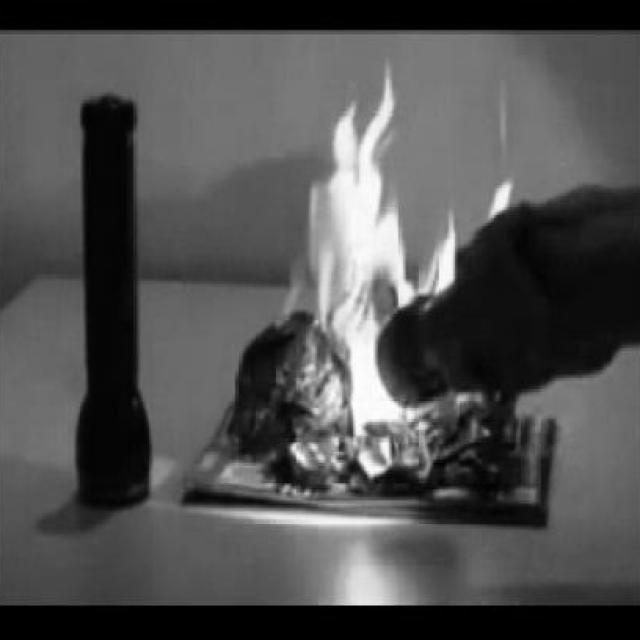smoke: (304, 59, 406, 400), (410, 205, 462, 302), (493, 165, 516, 212)
